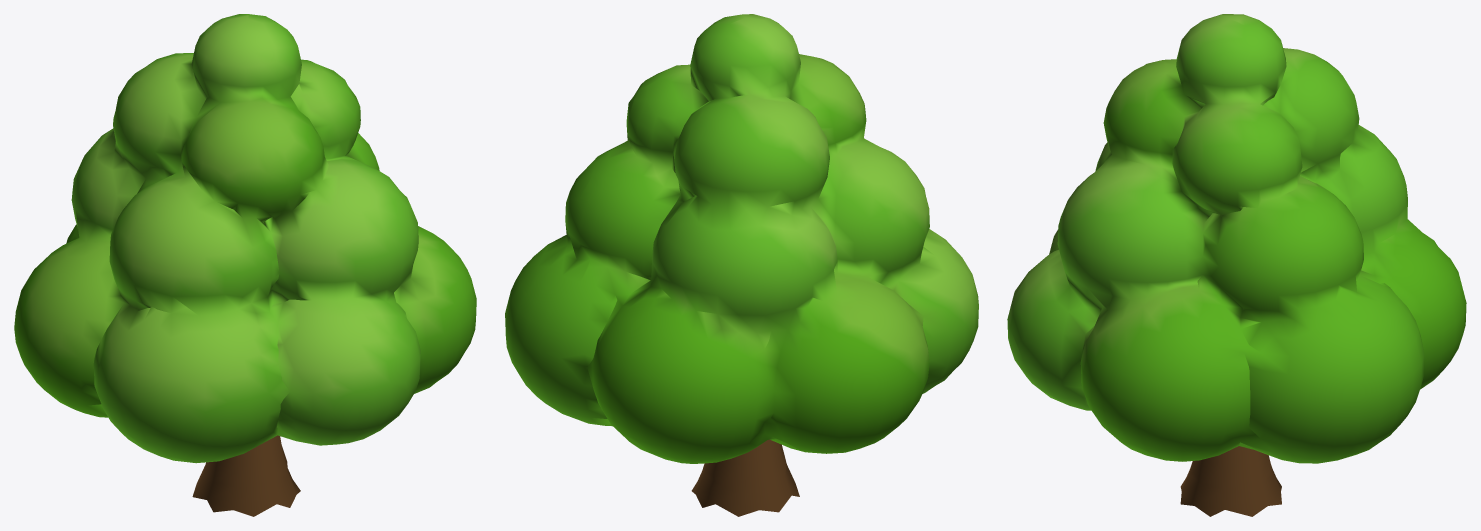
Rendered from pine-tree-105-lod1.obj.
3 views of the same model, side by side, from view 1: azimuth 30°, elevation 25°; view 2: azimuth 150°, elevation 25°; view 3: azimuth 270°, elevation 25° (orthographic).
Parts seen in each view (by area): view 1: simplified; view 2: simplified; view 3: simplified.
Part boxes in pixels (<box>): simplified: <box>14,14,476,516</box>; simplified: <box>505,14,978,516</box>; simplified: <box>1007,14,1466,516</box>.
Size of the model in its own units: 276 by 324 by 283.
